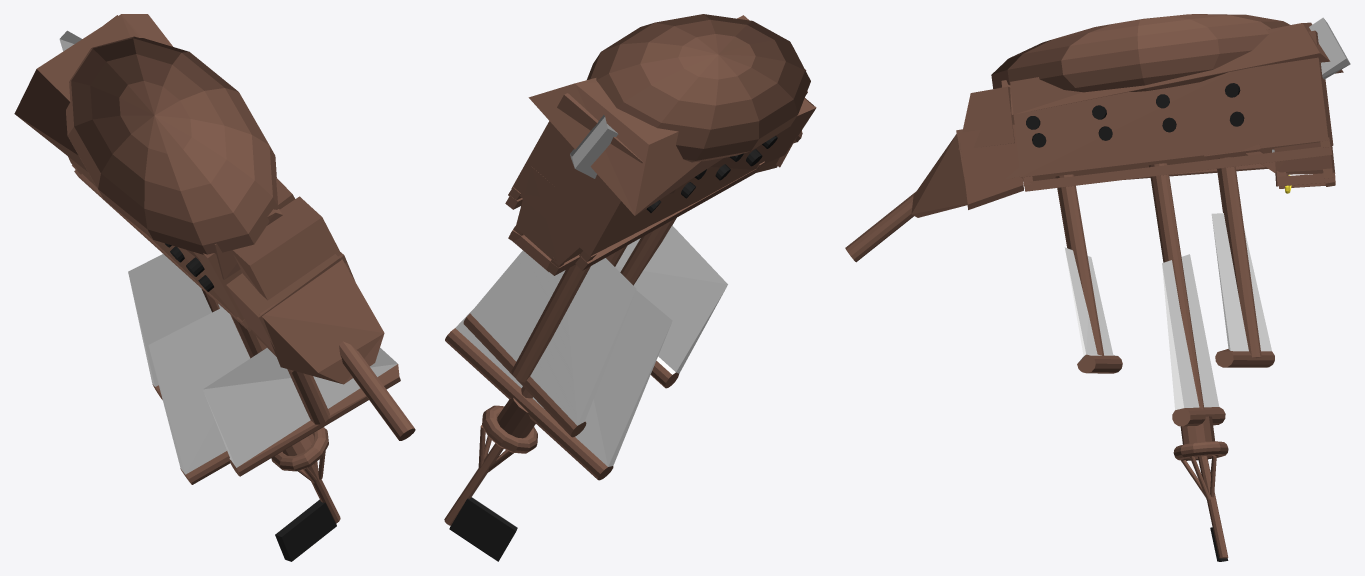
The model's file is PirateShip2.glb.
3 renders of one model, left to right at view 1: azimuth 30°, elevation 25°; view 2: azimuth 150°, elevation 25°; view 3: azimuth 270°, elevation 25°, orthographic. The views are drawn at different scales.
Visible parts, largest first — view 1: group970421097; view 2: group970421097; view 3: group970421097.
Part boxes in pixels (x1=…): group970421097: x1=14, y1=14, x2=415, y2=561; group970421097: x1=444, y1=14, x2=816, y2=561; group970421097: x1=845, y1=14, x2=1350, y2=561.
Size of the model in its own units: 0.6539 by 1.13 by 1.07.
